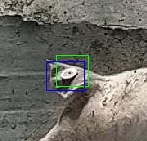text: (56, 55, 88, 86)
